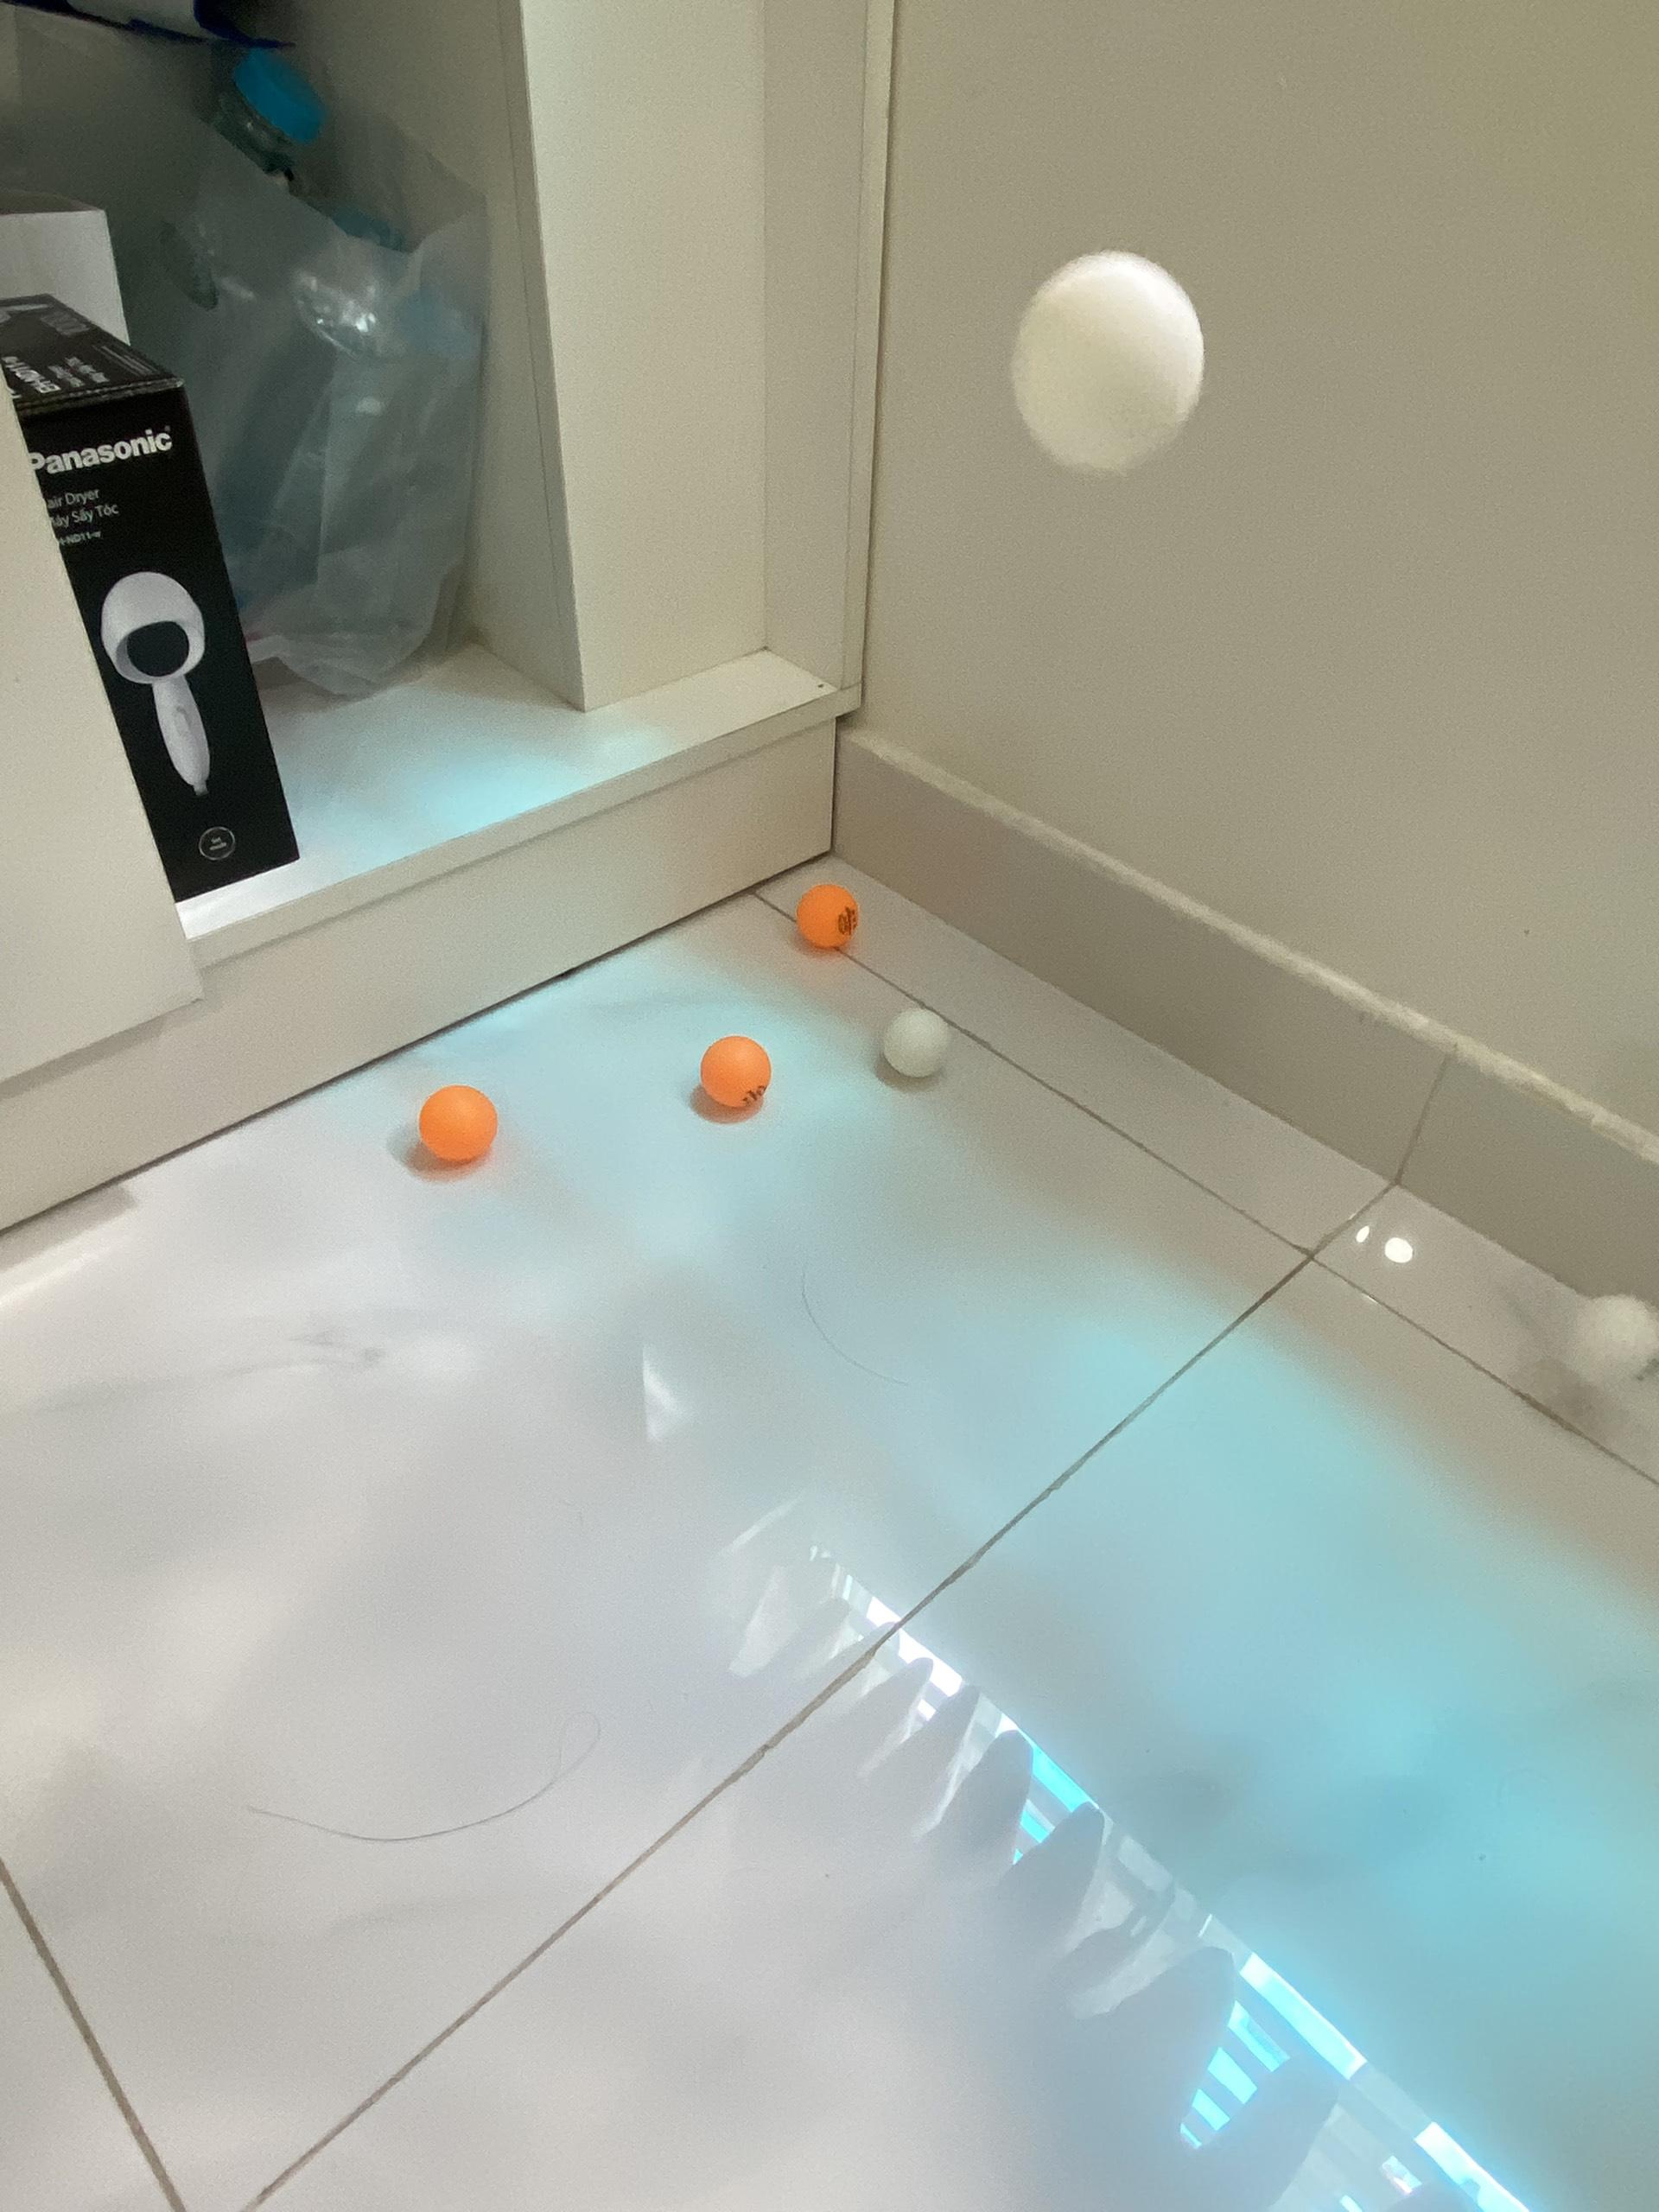oball: (423, 1080, 498, 1163), (701, 1031, 772, 1109), (795, 885, 861, 951)
